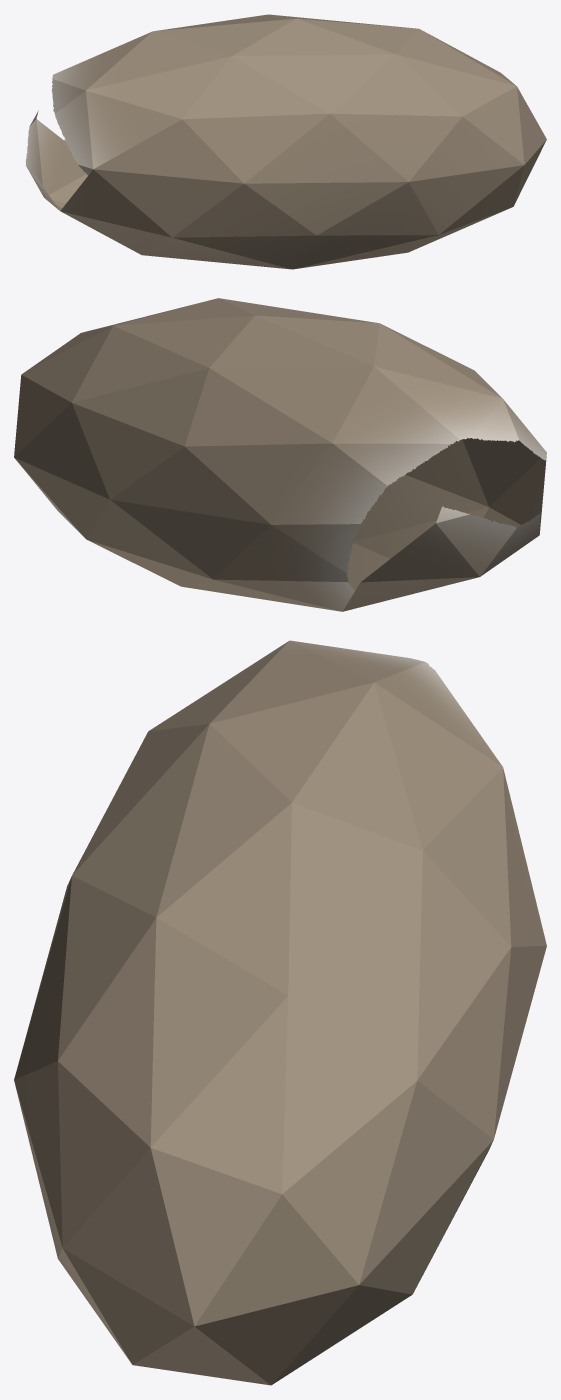
File: roca2 copia.obj
3 views of the same model, one above another, from view 1: azimuth 30°, elevation 25°; view 2: azimuth 150°, elevation 25°; view 3: azimuth 270°, elevation 25° (orthographic). The views are drawn at different scales.
Bounding box in the file's own units: 903 × 418 × 436.
1 material, 1 textured.
